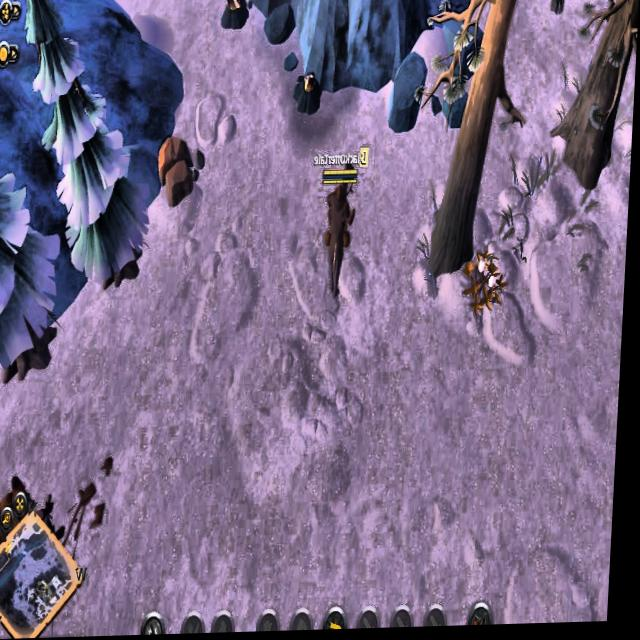copperore: (291, 70, 326, 119), (222, 0, 251, 32)
limestone: (157, 131, 199, 206)
